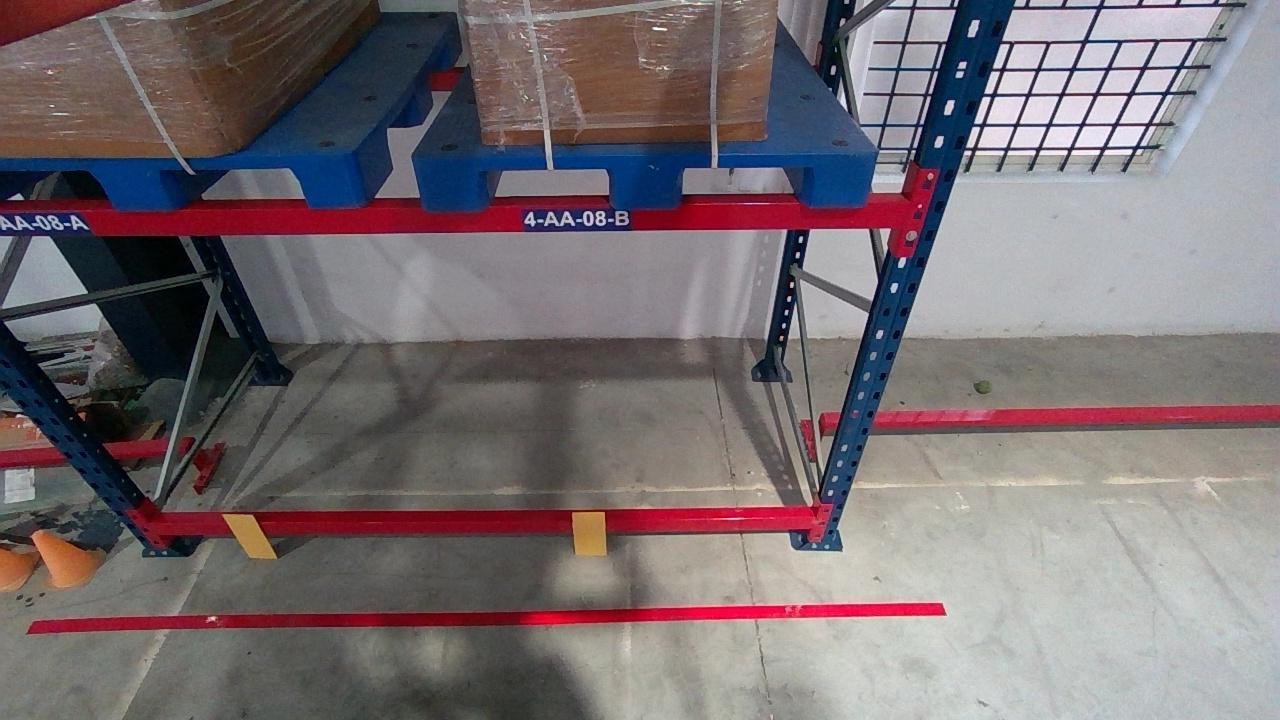h_rack: (3, 200, 909, 233), (145, 516, 816, 536)
orange_strip: (220, 513, 277, 557), (571, 512, 607, 556)
red_line: (22, 602, 942, 630)
small_pallet: (414, 152, 880, 207), (1, 154, 362, 210)
